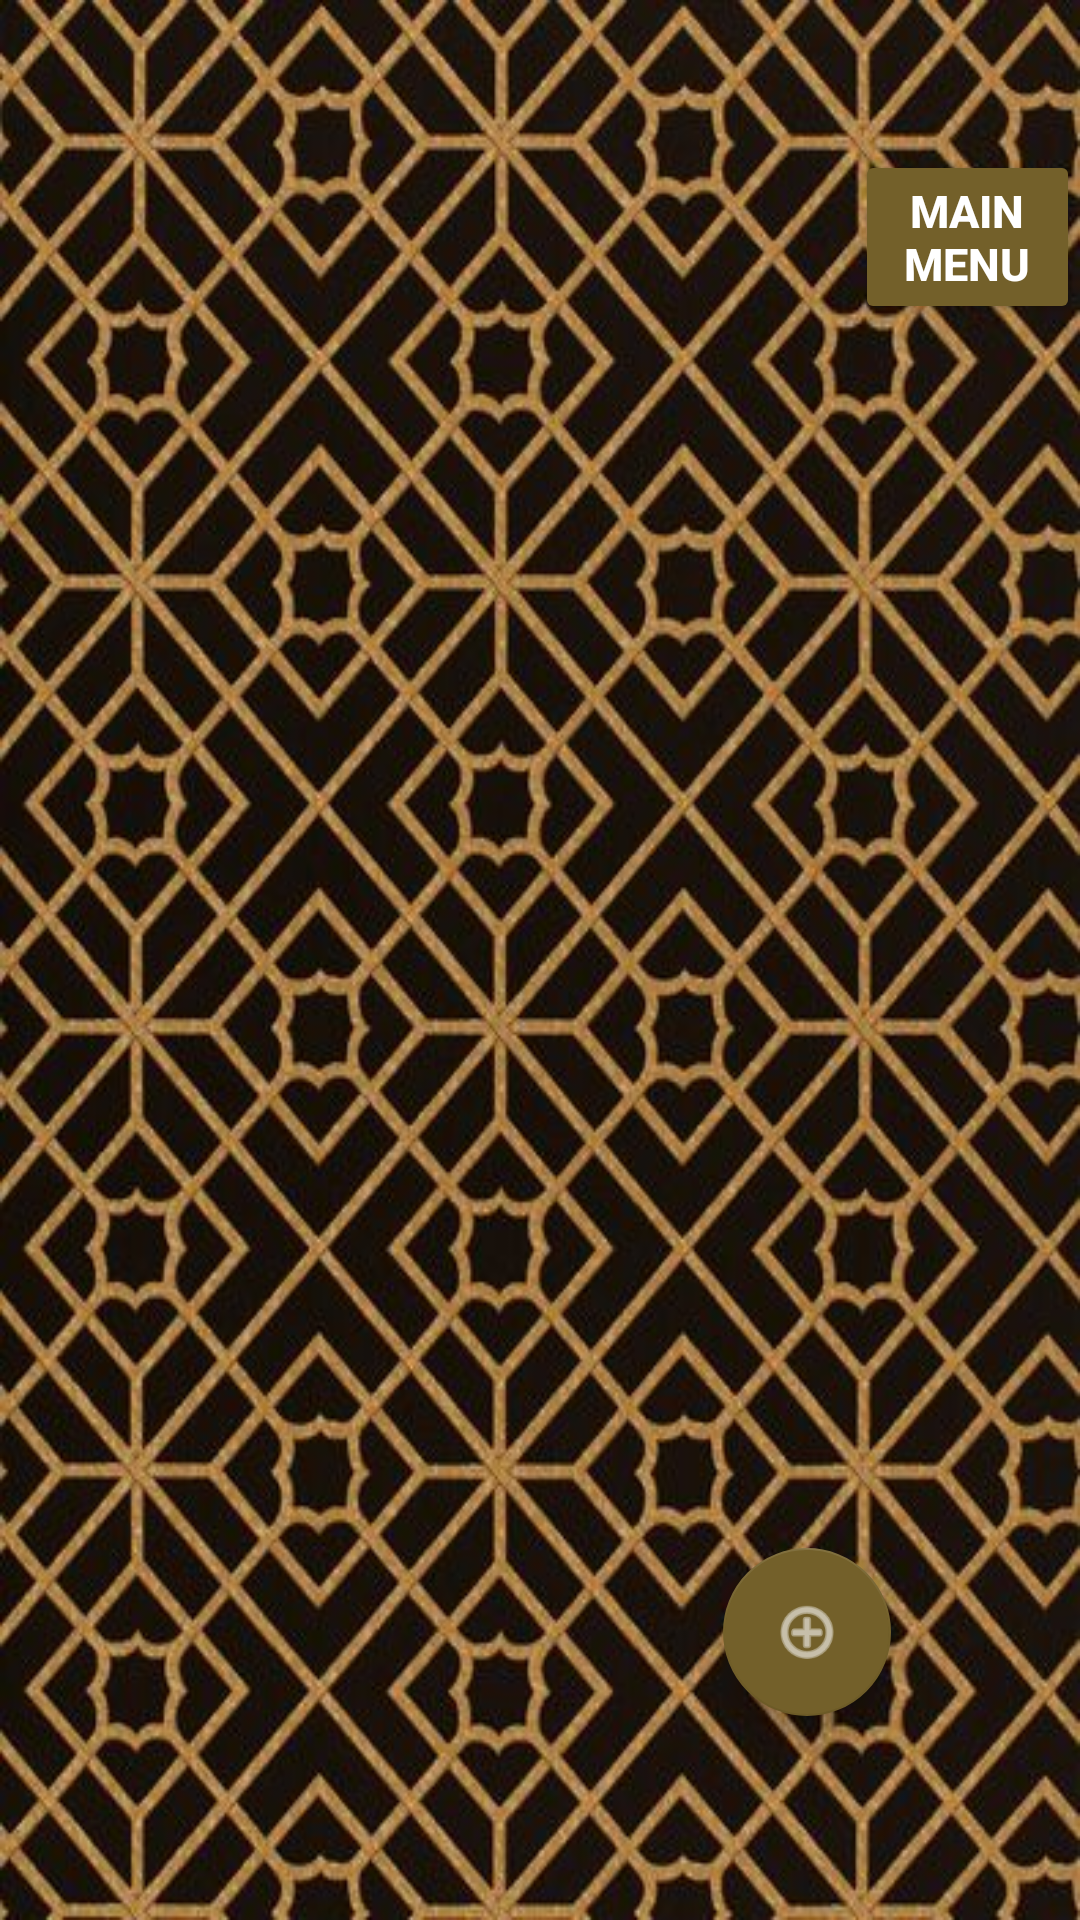

Where icons sit on this 1080px×1920px app screen, as (x1, y1, x2, y2):
add: (723, 1548, 891, 1716)
